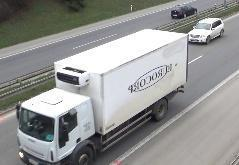Car: (188, 18, 225, 44), (171, 4, 197, 19)
Truck: (16, 29, 188, 164)
